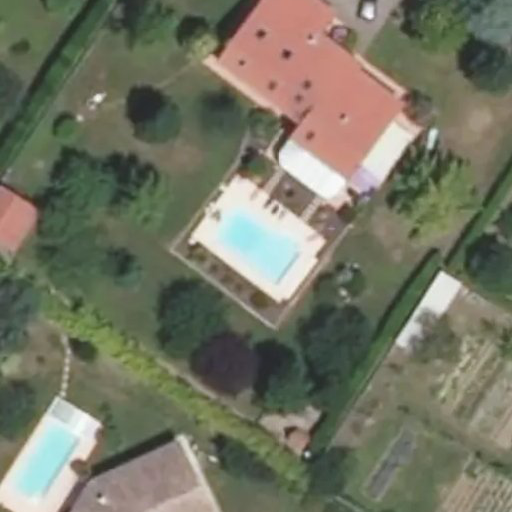pool: (214, 234, 296, 249)
